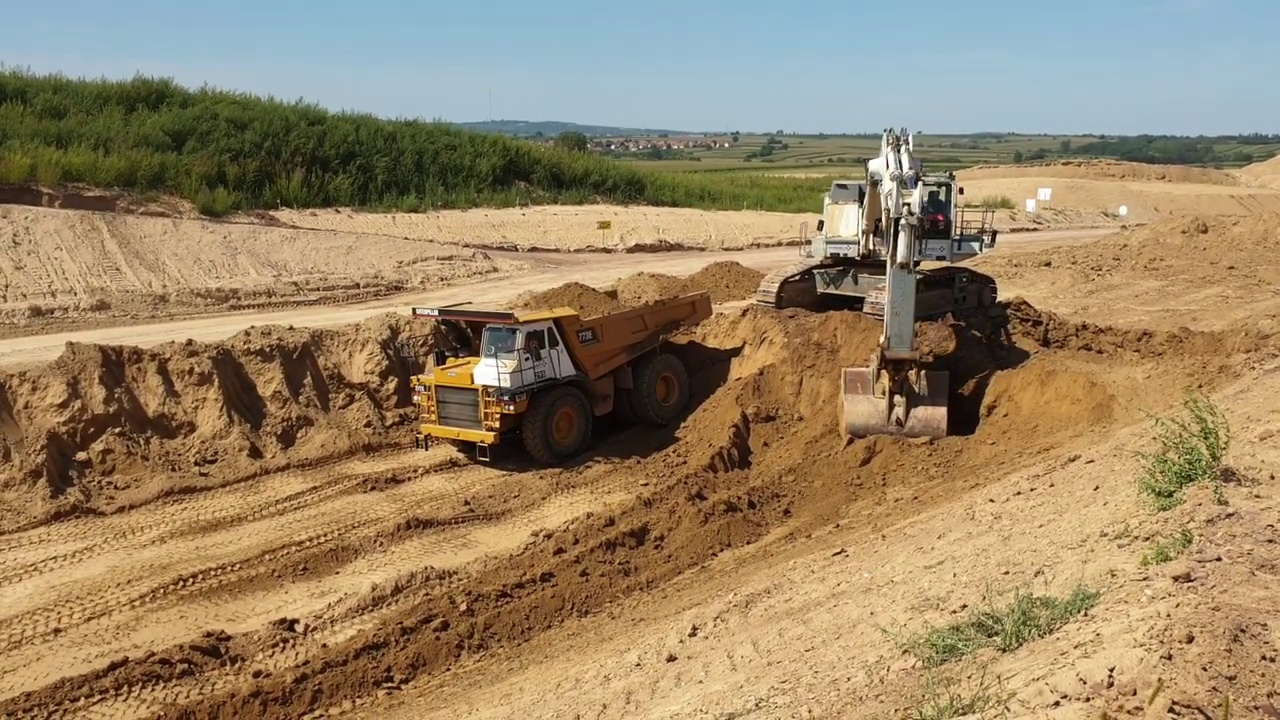excavator: (754, 123, 1004, 444)
truck: (408, 288, 721, 471)
